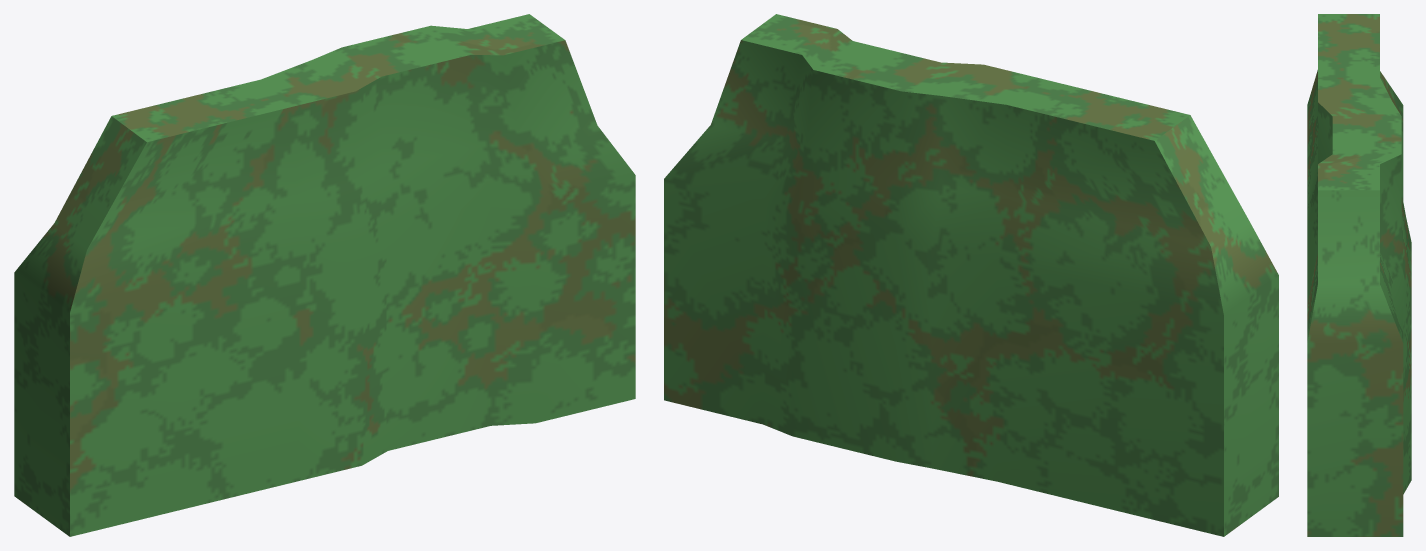
File: GiantWall.fbx
3 views of the same model, side by side, from view 1: azimuth 30°, elevation 25°; view 2: azimuth 150°, elevation 25°; view 3: azimuth 270°, elevation 25° (orthographic). The views are drawn at different scales.
Parts seen in each view (by area): view 1: GiantWall; view 2: GiantWall; view 3: GiantWall.
Part boxes in pixels (left/top/right/bottom): GiantWall: left=14, top=14, right=635, bottom=536; GiantWall: left=664, top=14, right=1278, bottom=536; GiantWall: left=1307, top=14, right=1411, bottom=536.
Bounding box in the file's own units: 8487 × 5302 × 1570.
